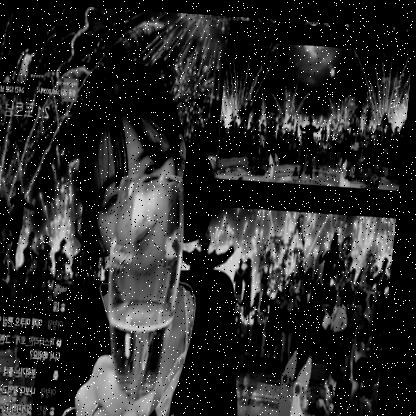donation: (214, 12, 416, 210)
streamer: (39, 58, 275, 416)
